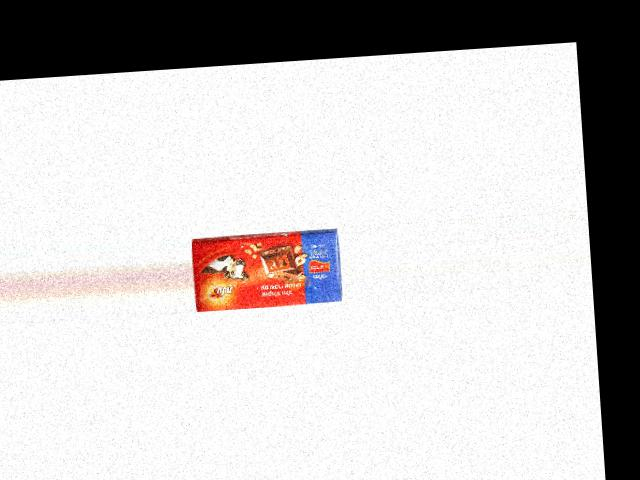chocolate: (190, 229, 342, 311)
